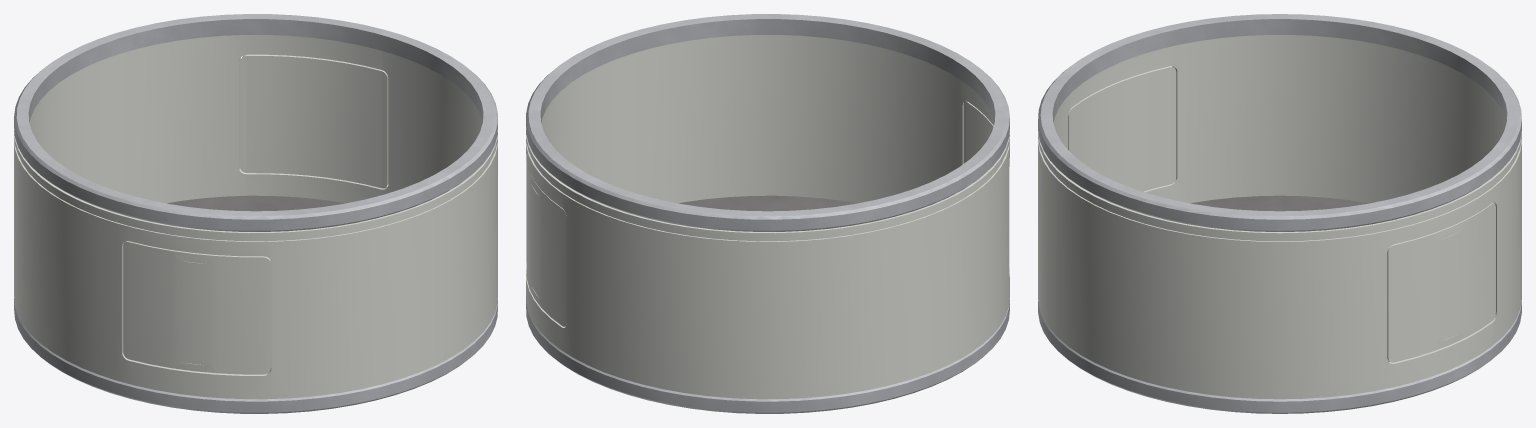
File: ax_struct_12_service_bay_l.glb
3 renders of one model, left to right at view 1: azimuth 30°, elevation 25°; view 2: azimuth 150°, elevation 25°; view 3: azimuth 270°, elevation 25°, orthographic.
Parts seen in each view (by area): view 1: bay_barrel, interface_rings, door_1, door_2, slot_deck; view 2: bay_barrel, interface_rings, door_1, slot_deck, door_2; view 3: bay_barrel, interface_rings, door_1, door_2, slot_deck.
Boxes of the visible parts, x1,y1,x2,y2 form: bay_barrel: [14, 35, 497, 399]; interface_rings: [14, 14, 497, 413]; door_1: [240, 54, 388, 188]; door_2: [123, 241, 271, 374]; slot_deck: [123, 195, 345, 371]; bay_barrel: [526, 35, 1009, 399]; interface_rings: [526, 14, 1009, 413]; door_1: [526, 162, 566, 326]; slot_deck: [678, 195, 857, 211]; door_2: [963, 101, 993, 163]; bay_barrel: [1038, 35, 1521, 399]; interface_rings: [1038, 14, 1521, 413]; door_1: [1387, 203, 1495, 362]; door_2: [1068, 66, 1176, 191]; slot_deck: [1190, 195, 1389, 361].
Bounding box in the file's own units: 3.75 × 1.69 × 3.75.
3 materials, 2 textured.
